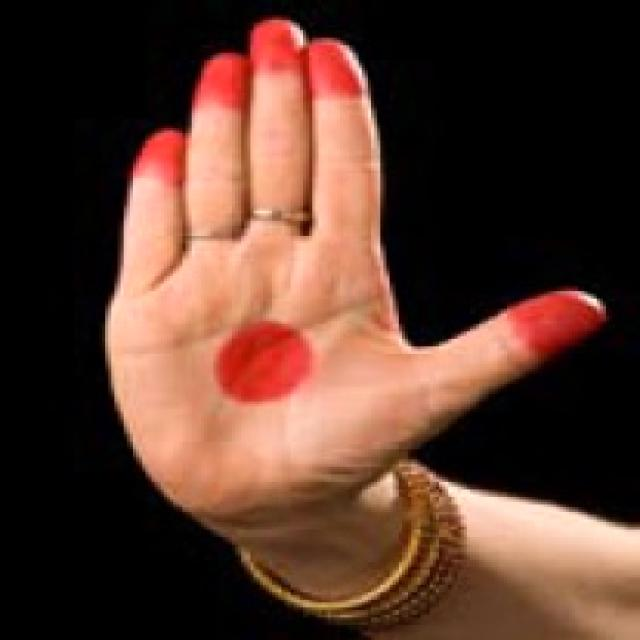Ardhachandra: (65, 5, 625, 526)
